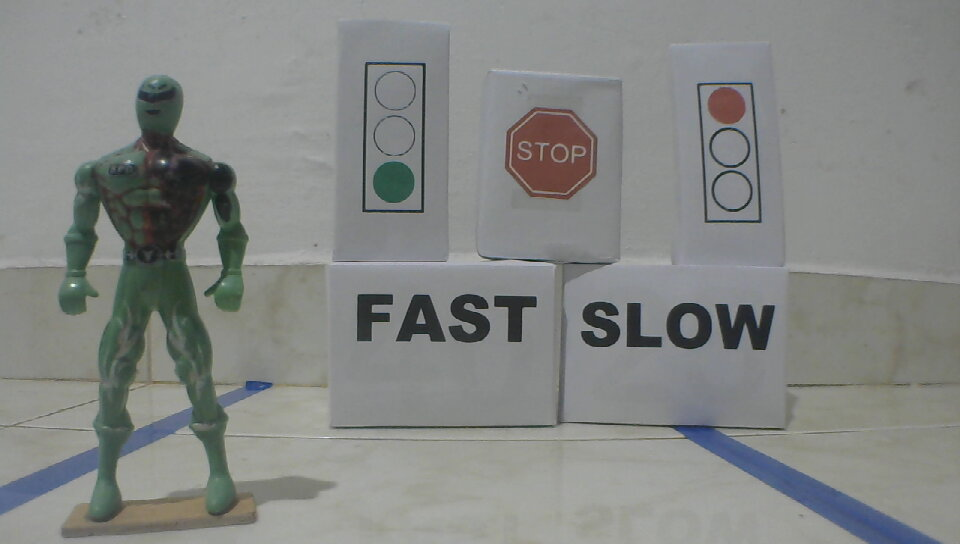Fast: (355, 290, 540, 346)
Green Traffic Light: (359, 60, 428, 217)
Person: (54, 69, 249, 529)
Red Traffic Light: (693, 80, 766, 226)
Slow: (577, 298, 777, 353)
Stop Sign: (503, 105, 598, 201)
